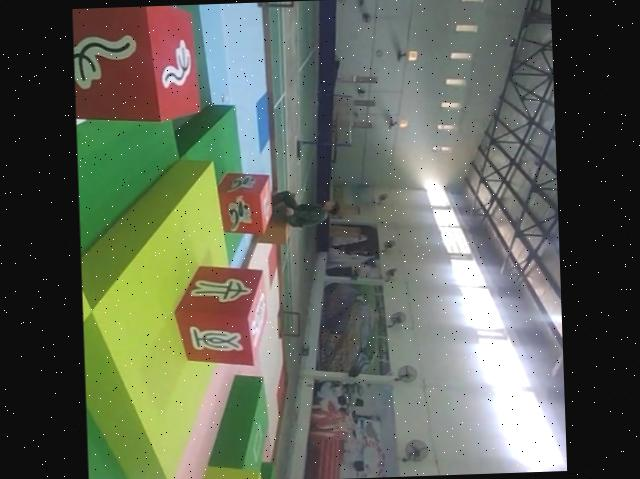R1: (219, 168, 270, 235)
R2 Fake: (172, 261, 271, 370)
R2 Real: (72, 5, 200, 126)
